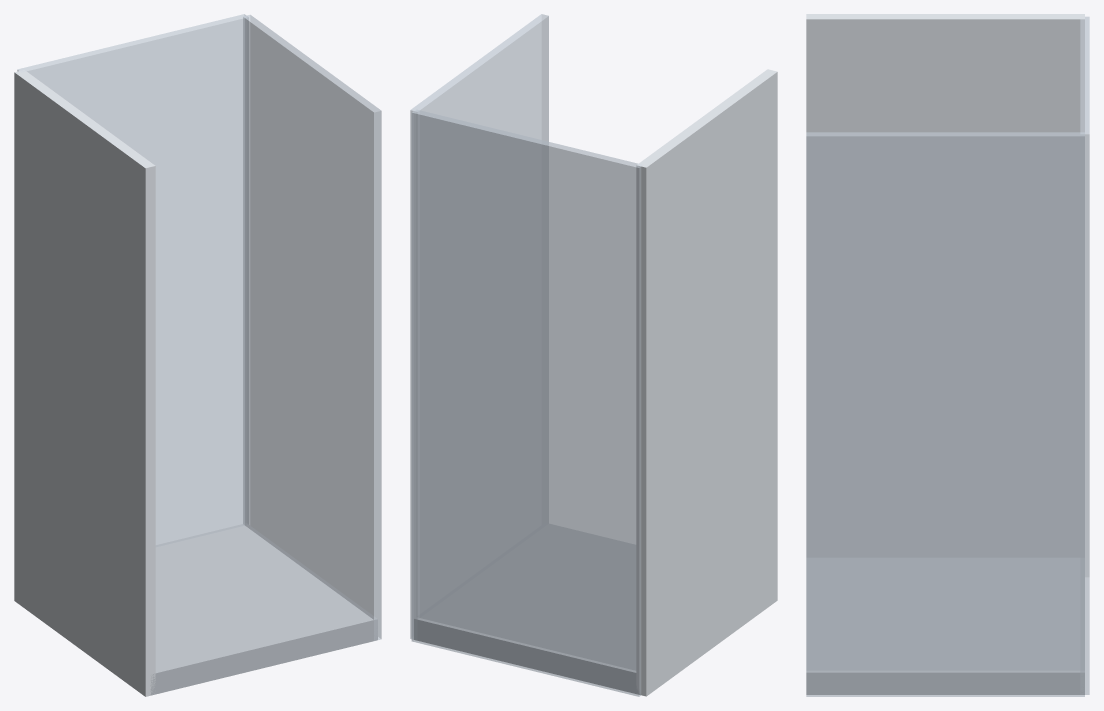
The picture shows the model from 3 angles, left to right: view 1: azimuth 30°, elevation 25°; view 2: azimuth 150°, elevation 25°; view 3: azimuth 270°, elevation 25°; orthographic projection. The views are drawn at different scales.
Bounding box in the file's own units: 0.935 × 2 × 0.915.
